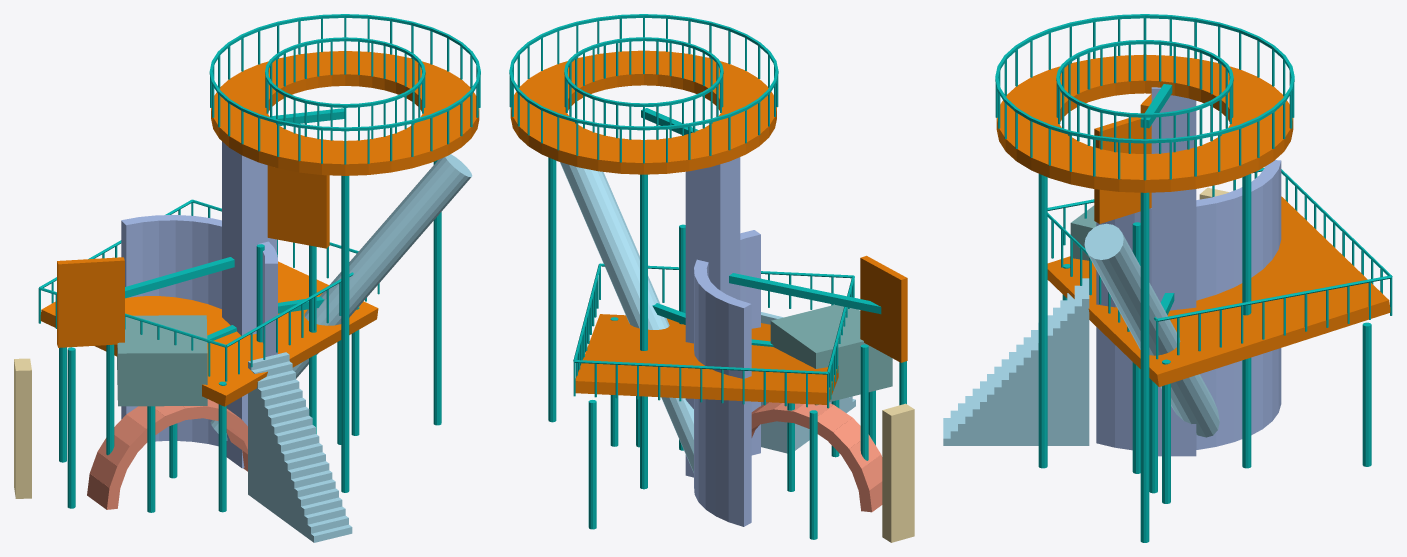
File: folie_tag_119.glb
3 renders of one model, left to right at view 1: azimuth 30°, elevation 25°; view 2: azimuth 150°, elevation 25°; view 3: azimuth 270°, elevation 25°, orthographic. The views are drawn at different scales.
Visible parts, largest first — view 1: folie_tag_119_line, folie_tag_119_01_ring, folie_tag_119_stairs, folie_tag_119_02_curve, folie_tag_119_00_plate, folie_tag_119_03_block, folie_tag_119_core, folie_tag_119_05_tube, folie_tag_119_08_panel, folie_tag_119_04_arc, folie_tag_119_06_panel, folie_tag_119_07_fin; view 2: folie_tag_119_line, folie_tag_119_01_ring, folie_tag_119_02_curve, folie_tag_119_00_plate, folie_tag_119_core, folie_tag_119_05_tube, folie_tag_119_03_block, folie_tag_119_04_arc, folie_tag_119_07_fin, folie_tag_119_08_panel, folie_tag_119_stairs; view 3: folie_tag_119_line, folie_tag_119_01_ring, folie_tag_119_00_plate, folie_tag_119_02_curve, folie_tag_119_stairs, folie_tag_119_core, folie_tag_119_05_tube, folie_tag_119_06_panel, folie_tag_119_03_block.
Part boxes in pixels (bbox=[...]): folie_tag_119_line: bbox=[38, 14, 480, 512]; folie_tag_119_01_ring: bbox=[211, 51, 479, 175]; folie_tag_119_stairs: bbox=[248, 352, 352, 542]; folie_tag_119_02_curve: bbox=[121, 215, 277, 446]; folie_tag_119_00_plate: bbox=[40, 261, 378, 406]; folie_tag_119_03_block: bbox=[117, 315, 207, 406]; folie_tag_119_core: bbox=[222, 141, 276, 468]; folie_tag_119_05_tube: bbox=[210, 154, 472, 440]; folie_tag_119_08_panel: bbox=[57, 257, 124, 347]; folie_tag_119_04_arc: bbox=[87, 399, 247, 509]; folie_tag_119_06_panel: bbox=[267, 165, 329, 248]; folie_tag_119_07_fin: bbox=[14, 358, 31, 498]; folie_tag_119_line: bbox=[509, 14, 906, 539]; folie_tag_119_01_ring: bbox=[510, 50, 776, 174]; folie_tag_119_02_curve: bbox=[694, 230, 760, 526]; folie_tag_119_00_plate: bbox=[575, 314, 838, 404]; folie_tag_119_core: bbox=[685, 157, 740, 477]; folie_tag_119_05_tube: bbox=[560, 162, 693, 472]; folie_tag_119_03_block: bbox=[770, 305, 892, 405]; folie_tag_119_04_arc: bbox=[751, 402, 882, 512]; folie_tag_119_07_fin: bbox=[882, 403, 914, 542]; folie_tag_119_08_panel: bbox=[860, 255, 907, 362]; folie_tag_119_stairs: bbox=[761, 312, 855, 453]; folie_tag_119_line: bbox=[995, 14, 1392, 542]; folie_tag_119_01_ring: bbox=[996, 54, 1293, 192]; folie_tag_119_00_plate: bbox=[1047, 196, 1390, 386]; folie_tag_119_02_curve: bbox=[1096, 160, 1281, 450]; folie_tag_119_stairs: bbox=[943, 278, 1089, 445]; folie_tag_119_core: bbox=[1151, 87, 1196, 456]; folie_tag_119_05_tube: bbox=[1084, 223, 1219, 437]; folie_tag_119_06_panel: bbox=[1094, 117, 1151, 223]; folie_tag_119_03_block: bbox=[1070, 205, 1096, 260].
Size of the model in its own units: 13.16 by 11.31 by 11.08.
